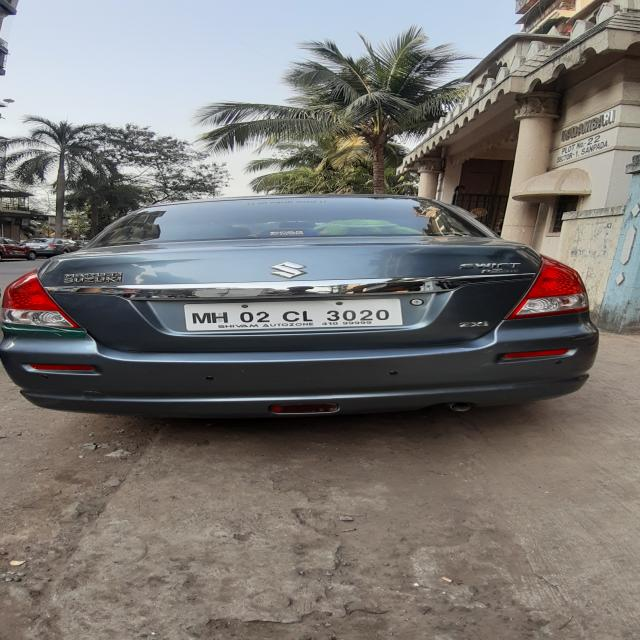Number-Plate: (179, 303, 410, 327)
